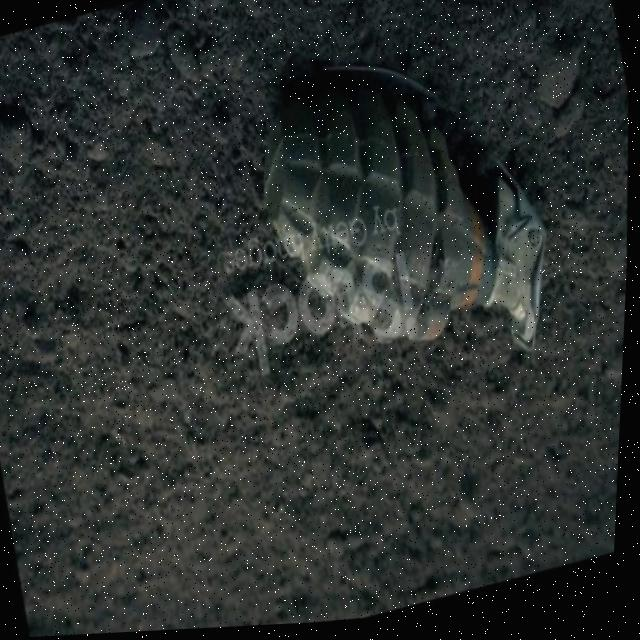grenade: (225, 3, 586, 420)
